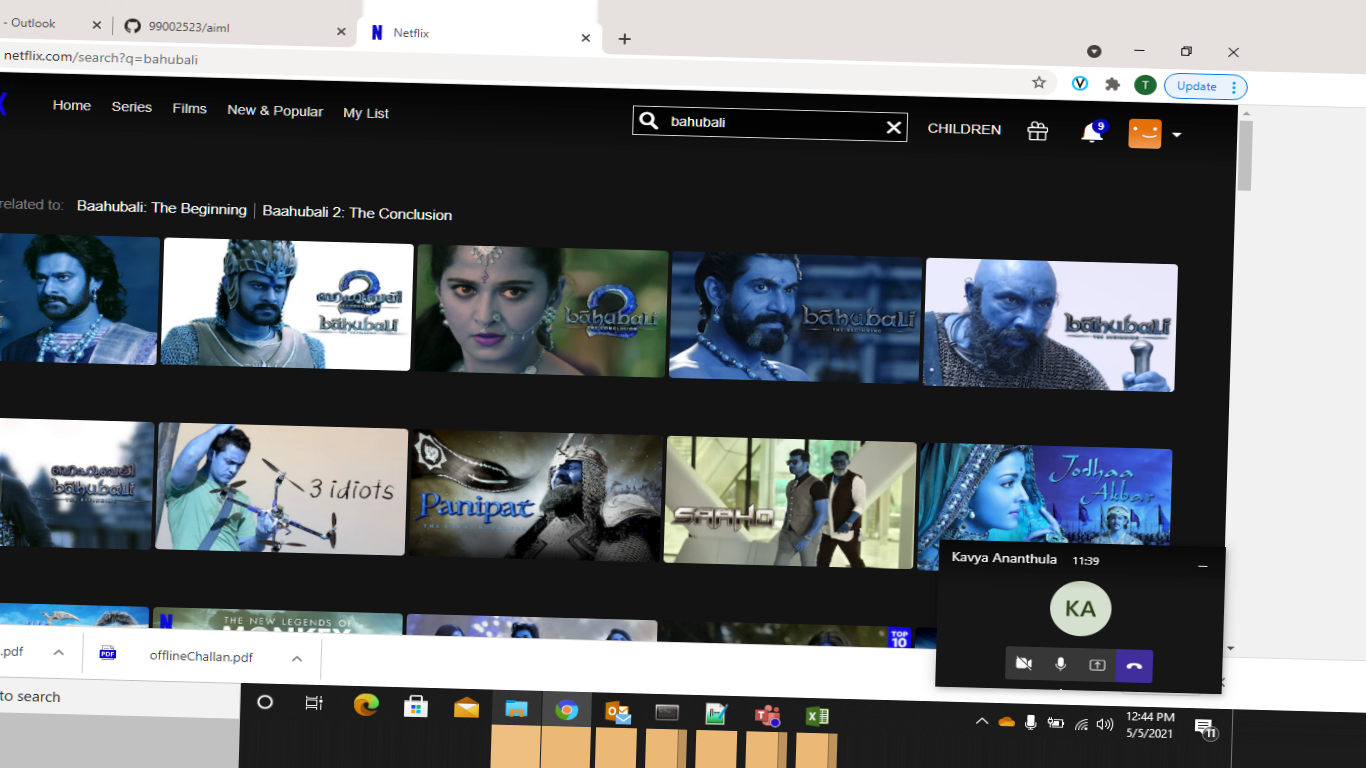profileicon: (1112, 111, 1183, 162)
resultsfound: (5, 186, 459, 235)
searchicon: (634, 104, 663, 137)
searchtextbox: (626, 96, 914, 146)
